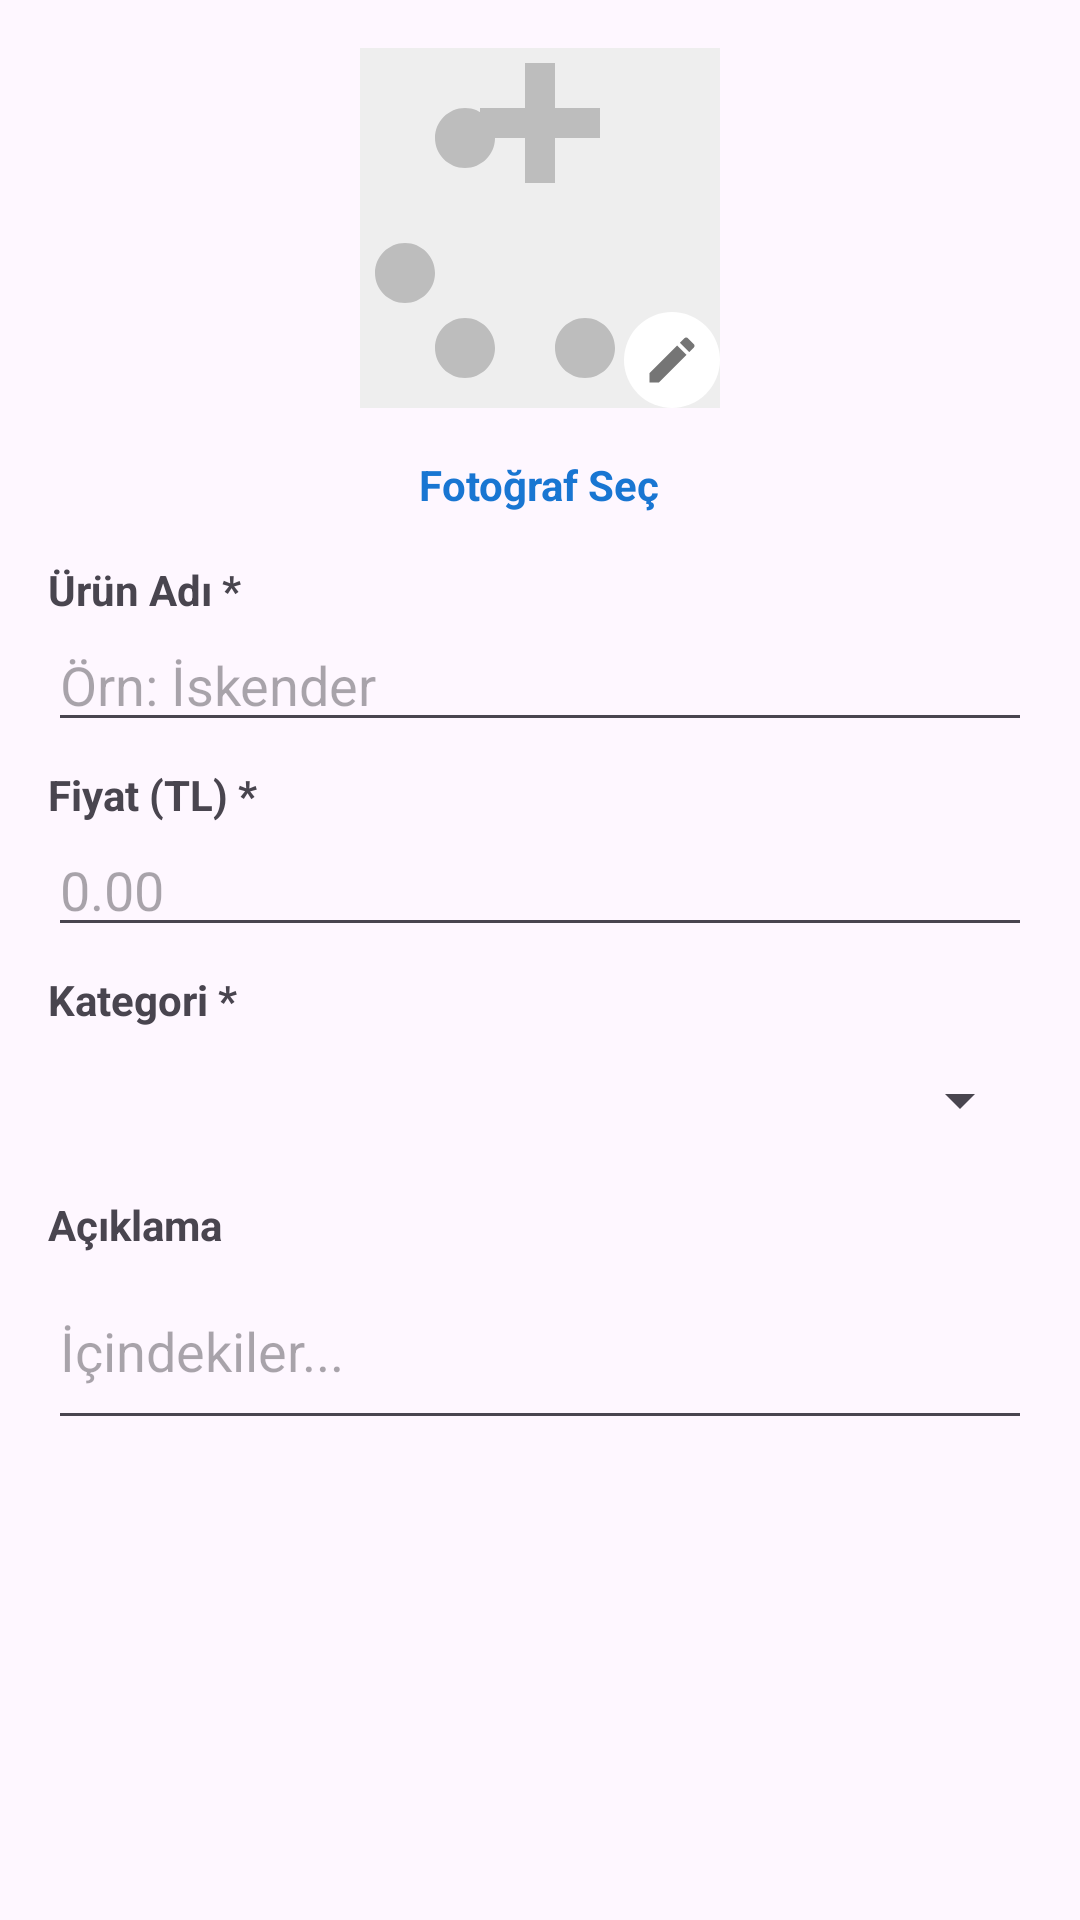

Point at icon controls on the screen. Image size 1080 x 1920, points as point (x, y).
edit: point (672, 360)
